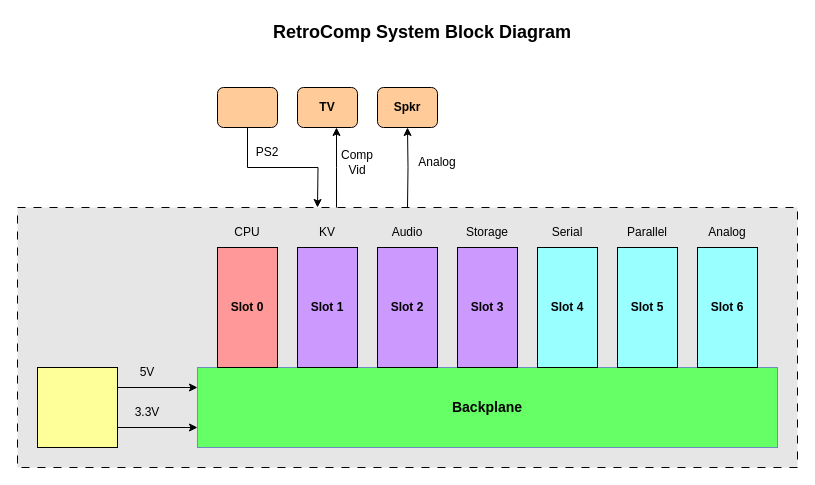
Some shapes in this 815 by 485 pixel diagram are drawn without their labels. The shapes that lost their labels are listed below. From the top down, each one's centre as x and y in pixels, then its label:
[247,107]: KBD
[77,407]: Power Supply
